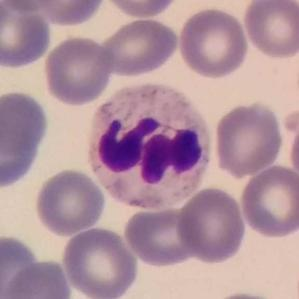Neutrophil: (83, 79, 217, 221)
RBC: (60, 224, 140, 299), (175, 185, 248, 266), (211, 100, 286, 178), (176, 5, 251, 80), (40, 34, 115, 108), (32, 167, 108, 237), (0, 88, 51, 191), (98, 16, 180, 78), (122, 204, 200, 269), (238, 163, 299, 240), (0, 0, 53, 70), (240, 0, 299, 60), (3, 257, 74, 299), (1, 232, 44, 299), (32, 0, 107, 28), (102, 0, 180, 20), (286, 112, 299, 190), (204, 288, 284, 299), (0, 0, 67, 13)
